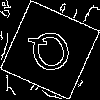Q: (25, 25, 79, 84)
